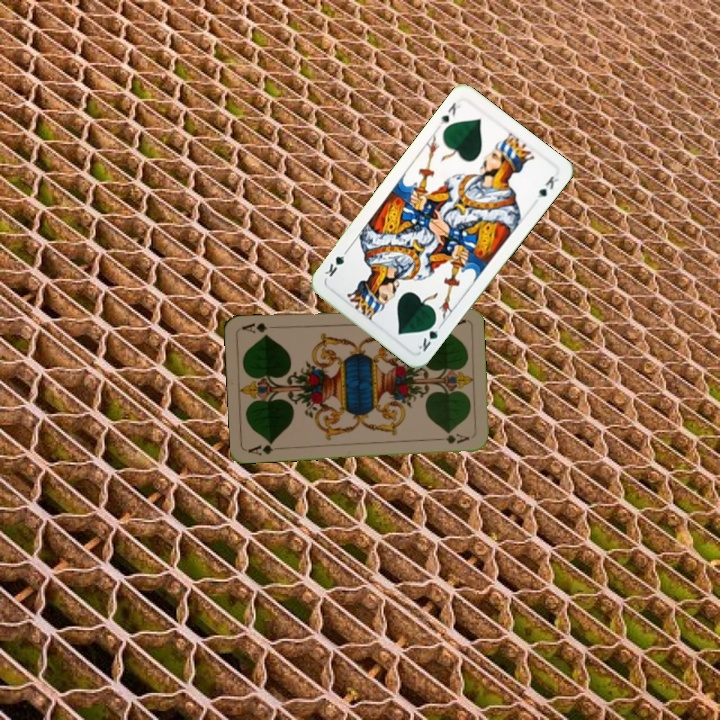GA: (245, 438, 285, 458)
GK: (414, 317, 445, 354), (436, 98, 463, 127)
